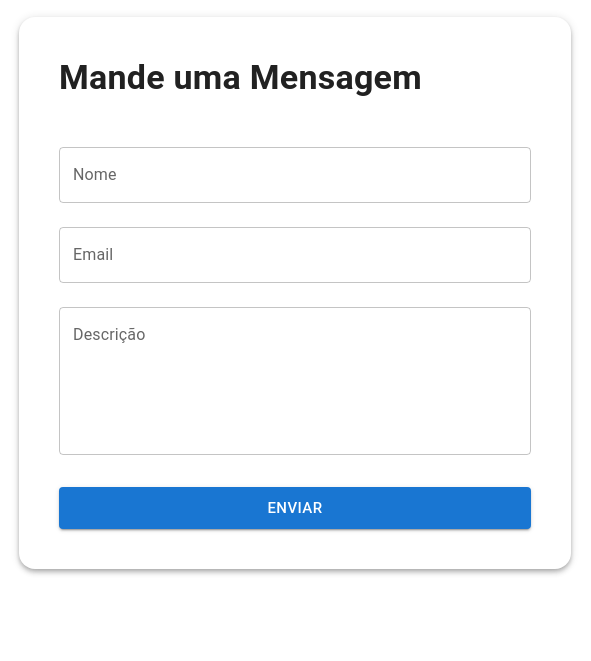
ContactForm Component › should show validation errors when fields are empty
Click the button "Enviar" at (295, 508), box [59,487,531,529]
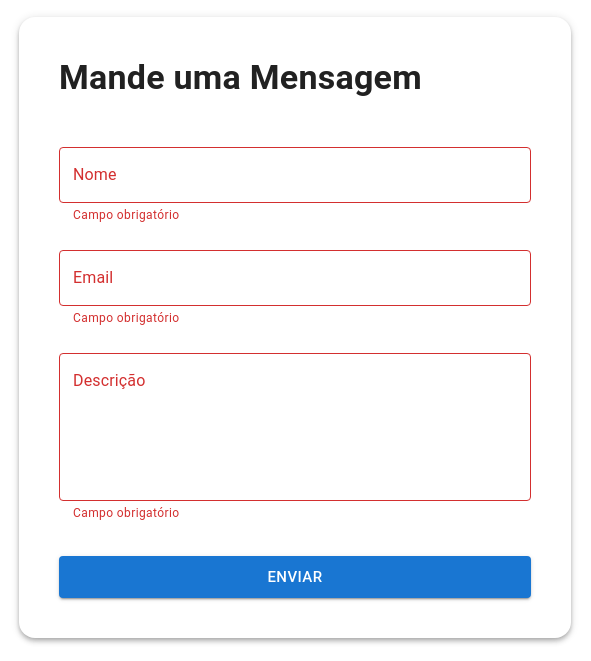
Expected: the text "Campo obrigatório" is shown 3 times, [73,208,180,222]; [73,311,180,325]; [73,506,180,520]
